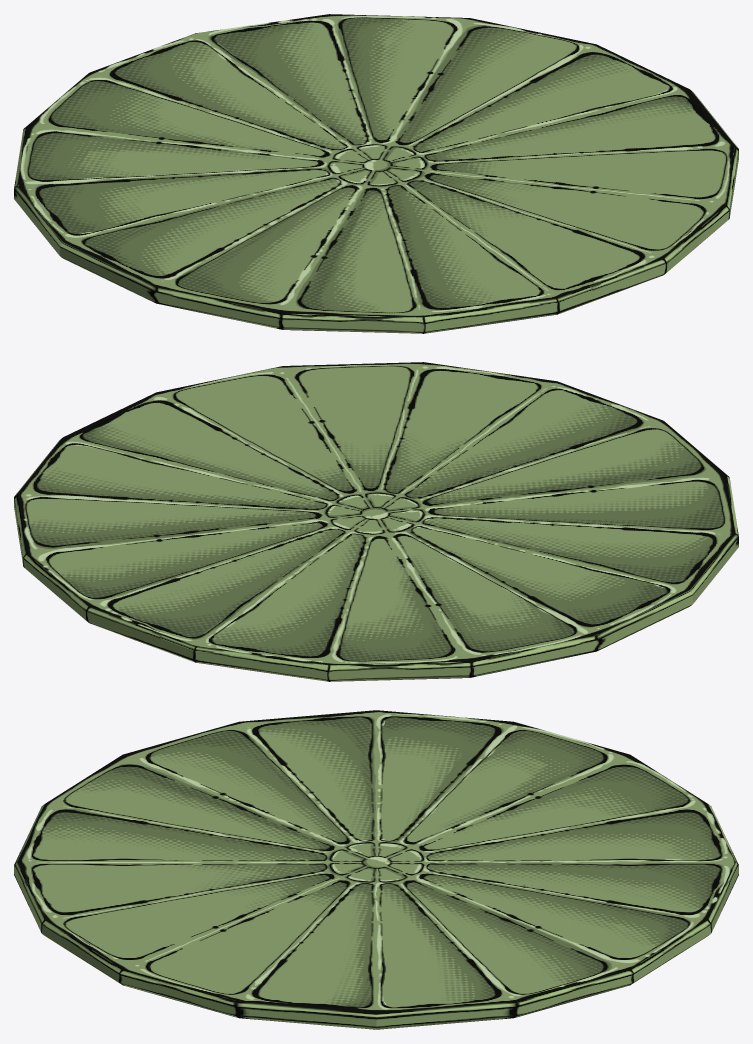
File: Leaf_Platform_Green_40m.fbx
The picture shows the model from 3 angles, top to bottom: view 1: azimuth 30°, elevation 25°; view 2: azimuth 150°, elevation 25°; view 3: azimuth 270°, elevation 25°; orthographic projection.
Parts seen in each view (by area): view 1: Leaf_Platform_Green40m; view 2: Leaf_Platform_Green40m; view 3: Leaf_Platform_Green40m.
Part boxes in pixels (bbox=[...]): Leaf_Platform_Green40m: bbox=[14, 14, 738, 333]; Leaf_Platform_Green40m: bbox=[14, 362, 738, 681]; Leaf_Platform_Green40m: bbox=[14, 710, 738, 1029].
Bounding box in the file's own units: 4000 × 4000 × 99.46.
